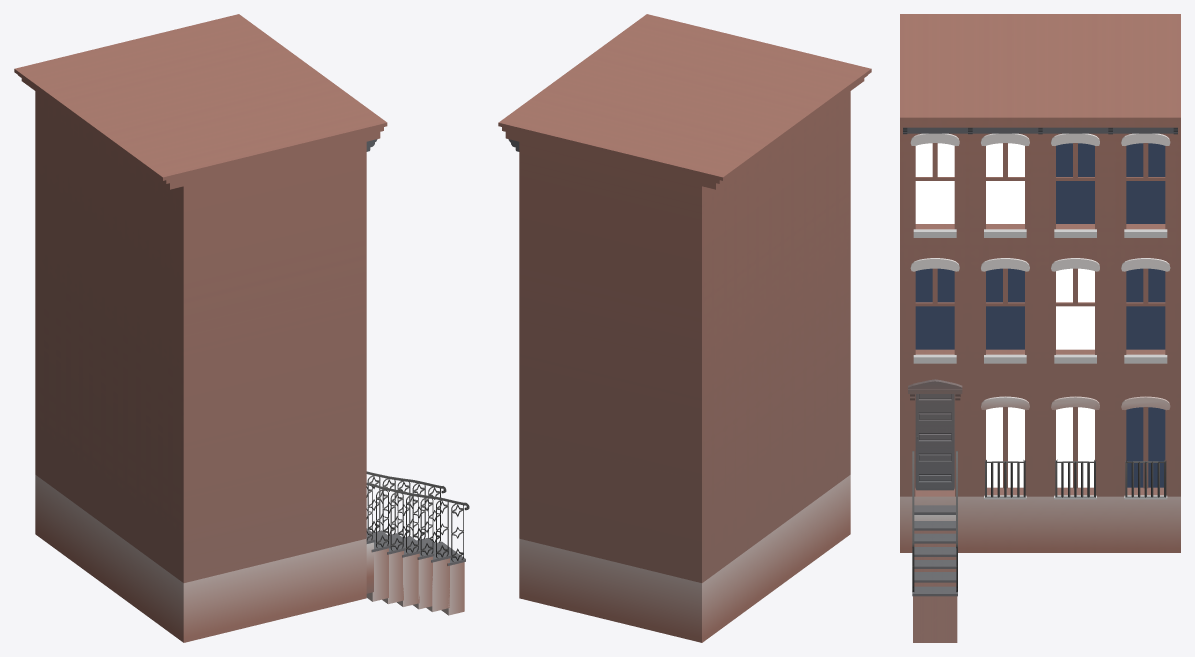
Rendered from Edificio_noche.fbx.
The picture shows the model from 3 angles, left to right: view 1: azimuth 30°, elevation 25°; view 2: azimuth 150°, elevation 25°; view 3: azimuth 270°, elevation 25°; orthographic projection. The views are drawn at different scales.
Visible parts, largest first — view 1: Cubo.047, Cubo.141, Cubo.139, Cubo.142, Cubo.138, Cubo.137, Cubo.140; view 2: Cubo.047; view 3: Cubo.047, Puerta.002, Cubo.142, Cubo.115, Cubo.114, Cubo.120, Cubo.101, Cubo.100, Cubo.099, Cubo.098, Cubo.136, Cubo.141 (+15 smaller).
Boxes of the visible parts, bbox=[...] form: Cubo.047: bbox=[14, 14, 387, 642]; Cubo.141: bbox=[417, 538, 451, 611]; Cubo.139: bbox=[389, 533, 420, 606]; Cubo.142: bbox=[435, 541, 465, 615]; Cubo.138: bbox=[373, 530, 405, 604]; Cubo.137: bbox=[366, 528, 390, 601]; Cubo.140: bbox=[404, 536, 434, 609]; Cubo.047: bbox=[498, 14, 871, 642]; Cubo.047: bbox=[900, 14, 1180, 552]; Puerta.002: bbox=[915, 394, 954, 490]; Cubo.142: bbox=[912, 586, 957, 642]; Cubo.115: bbox=[907, 127, 1173, 133]; Cubo.114: bbox=[913, 354, 1167, 363]; Cubo.120: bbox=[913, 229, 1167, 237]; Cubo.101: bbox=[1125, 459, 1166, 497]; Cubo.100: bbox=[1055, 459, 1096, 497]; Cubo.099: bbox=[984, 460, 1025, 497]; Cubo.098: bbox=[908, 379, 962, 400]; Cubo.136: bbox=[914, 505, 955, 520]; Cubo.141: bbox=[914, 572, 956, 586].
Size of the model in its own units: 312 by 489 by 256.
5 materials, 2 textured.
